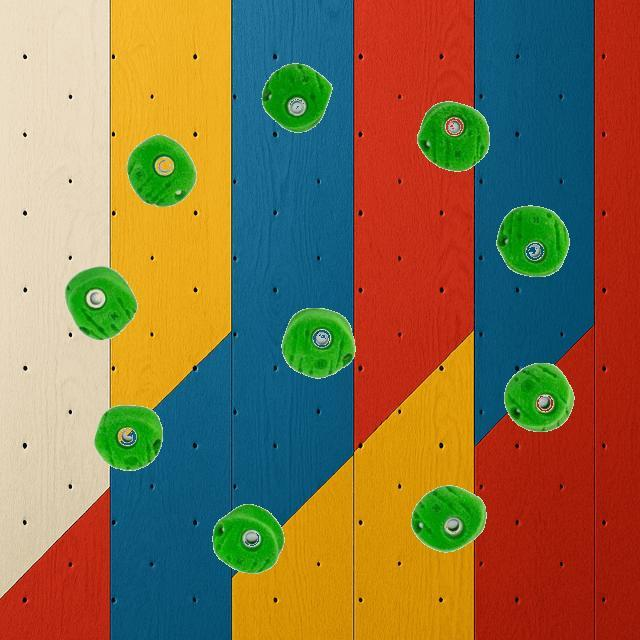Crimp: (496, 202, 572, 278), (64, 265, 138, 341), (212, 502, 286, 574), (281, 306, 355, 378), (126, 134, 198, 208), (411, 483, 487, 553), (260, 60, 332, 132), (418, 101, 490, 173), (505, 364, 573, 432), (94, 403, 162, 469)
